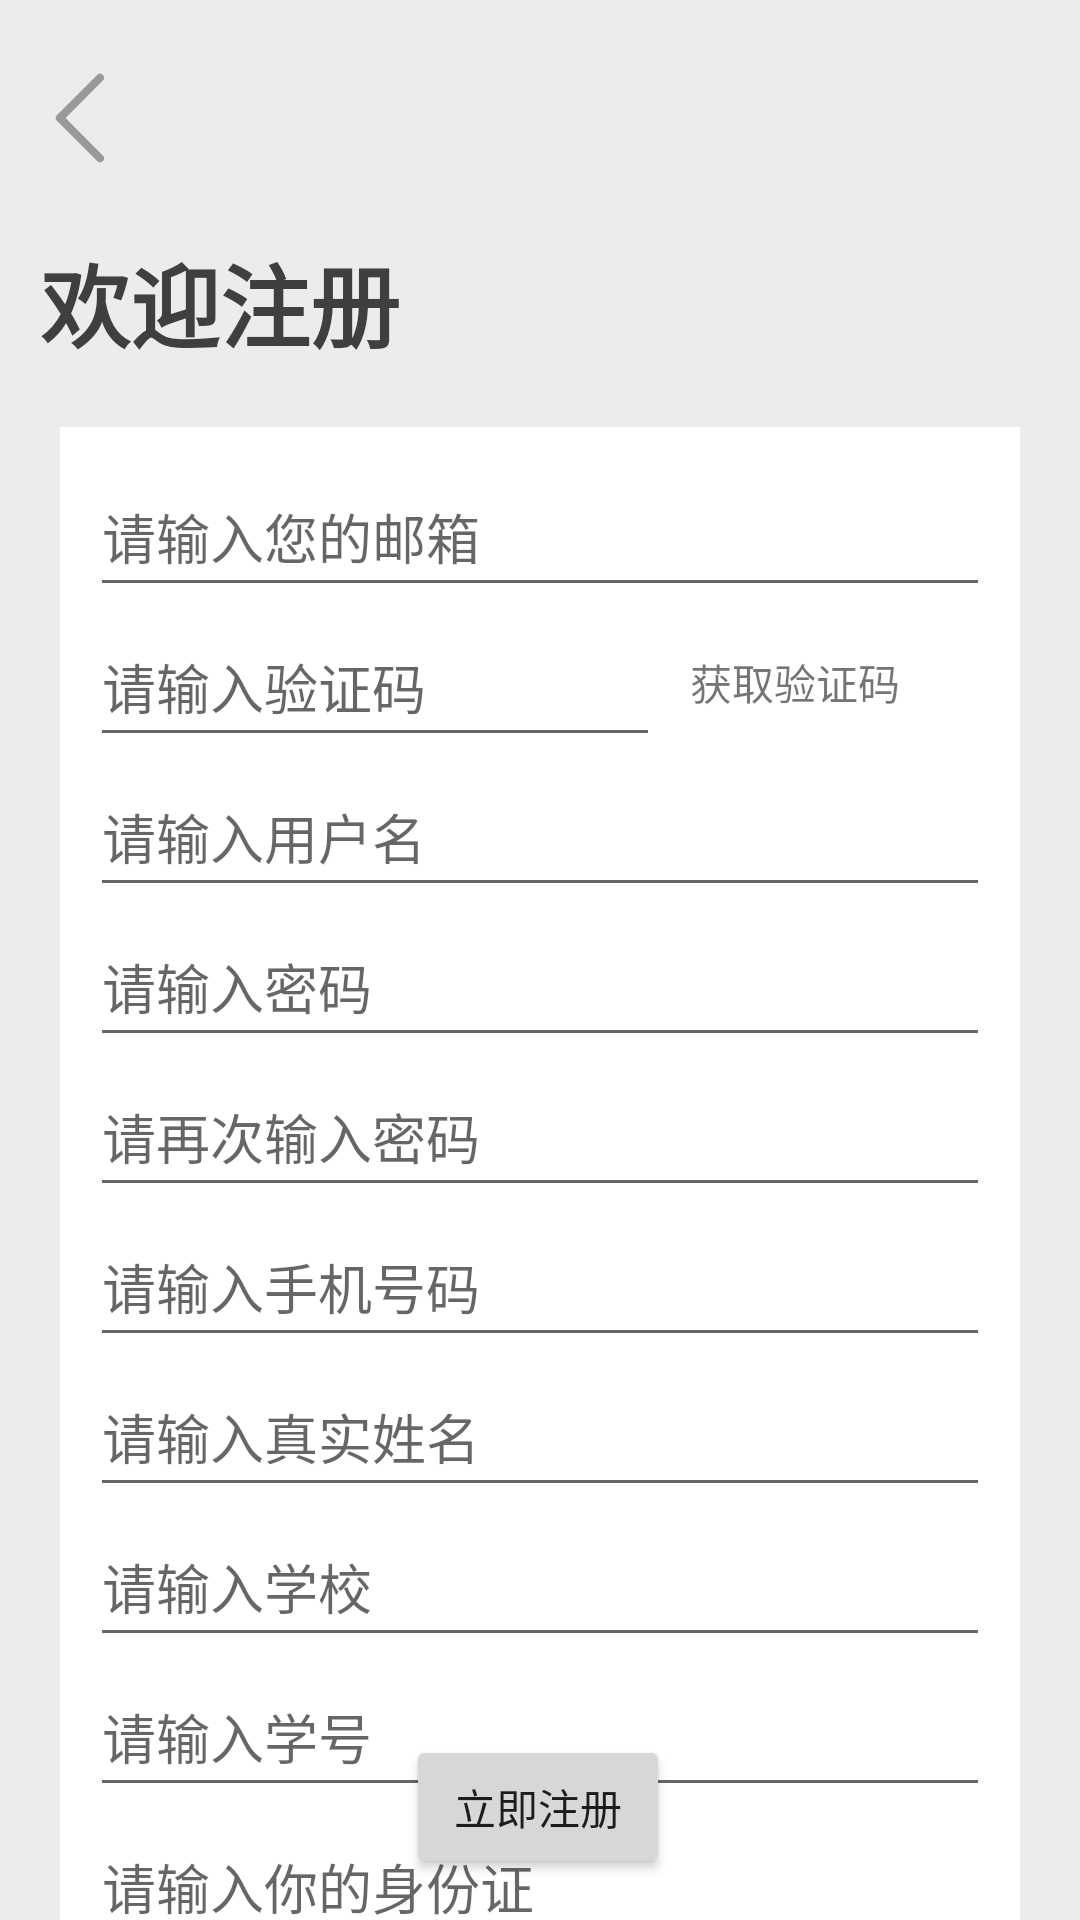

Locate icon controls on the screen. Image size 1080 × 1920, boxes as rect(x1, y1, x2, y2).
left arrow: rect(55, 73, 104, 163)
